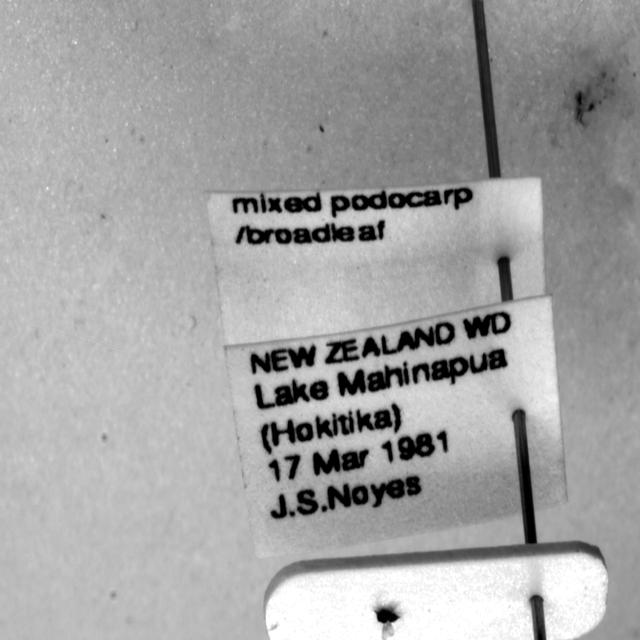typed_label: (225, 296, 566, 557), (208, 178, 545, 345)
